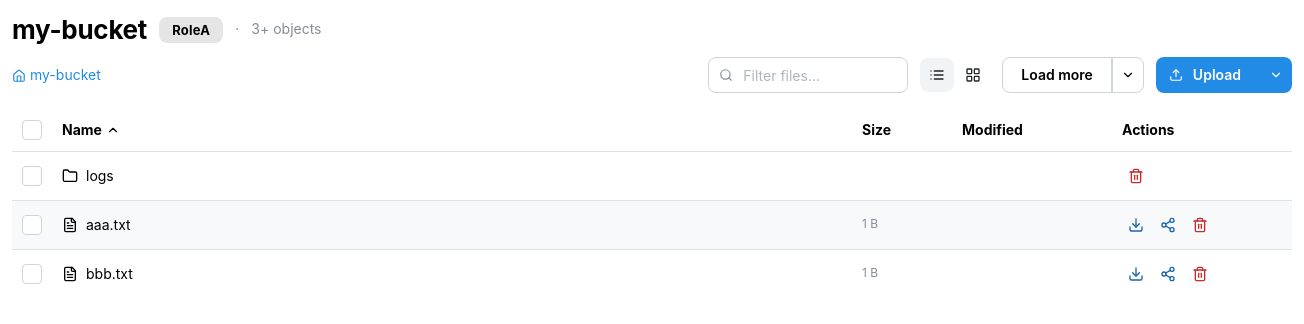
FileBrowser server-search mode › shows the affordance when folder is truncated AND a term is typed
Type "4f2a" into the field with placeholder "Filter files…" at (808, 75), box [708,57,908,93]
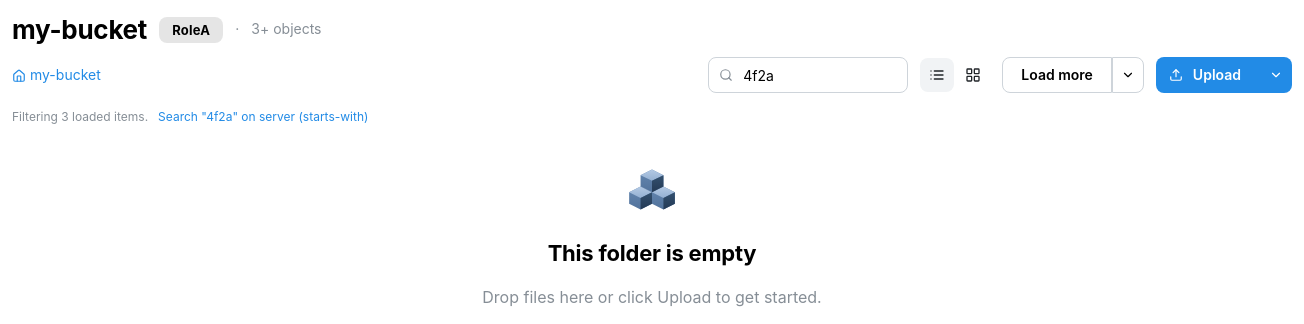
Expected: the button "Search \"4f2a\" on server (starts-with)" is shown, [158,109,368,126]
